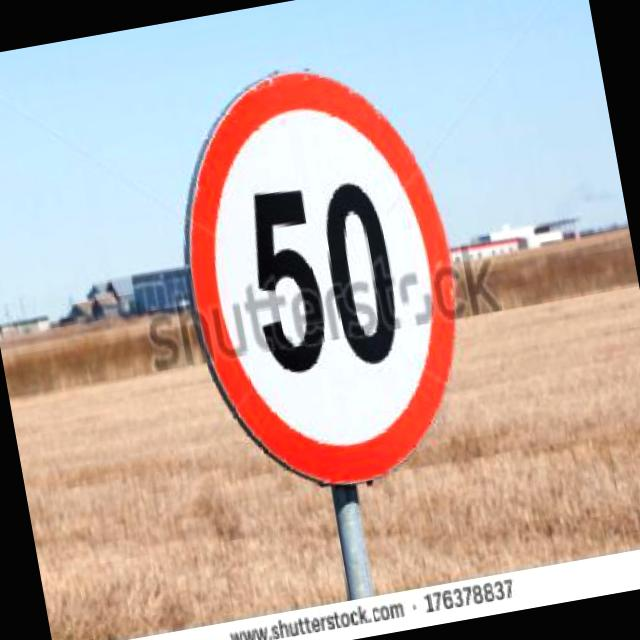Ograniczenie predkosci do 50: (162, 58, 474, 492)
